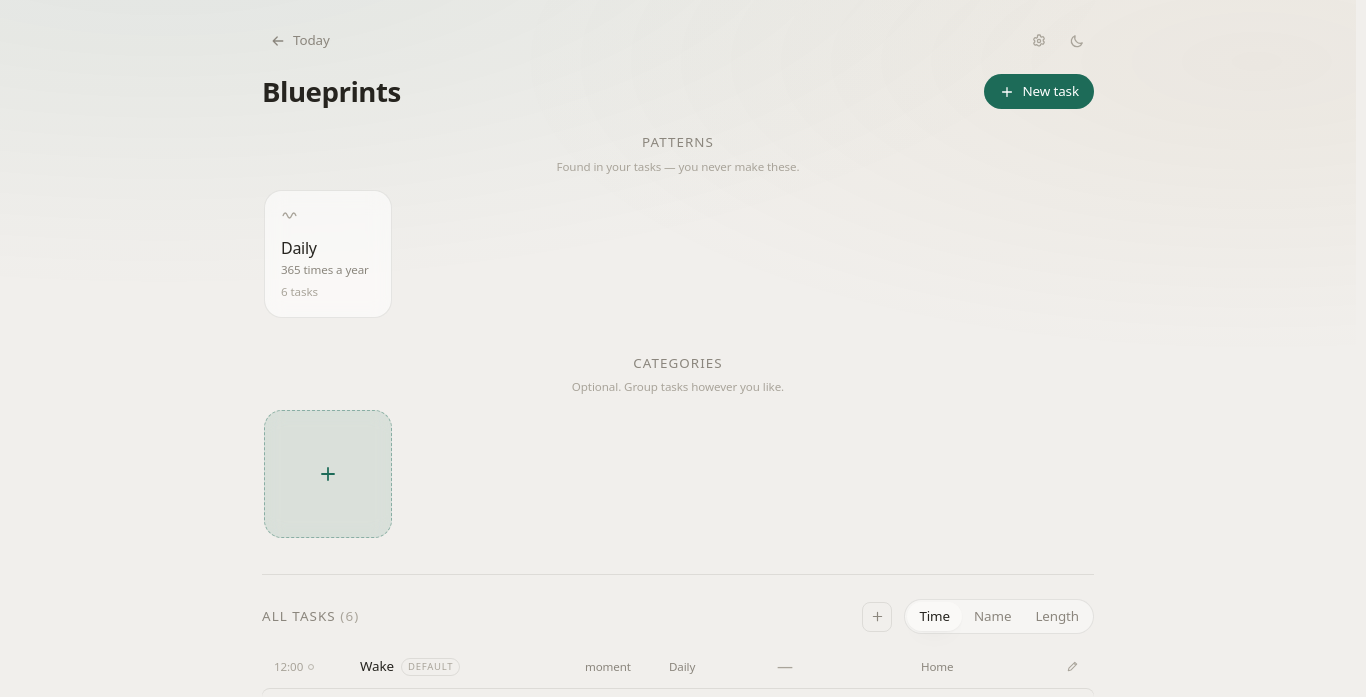
Test: blueprint wiring › opens a pattern as a popup, not a page
Click the button "Daily 365 times a year 6 tasks" at (328, 254), box [264,190,392,318]
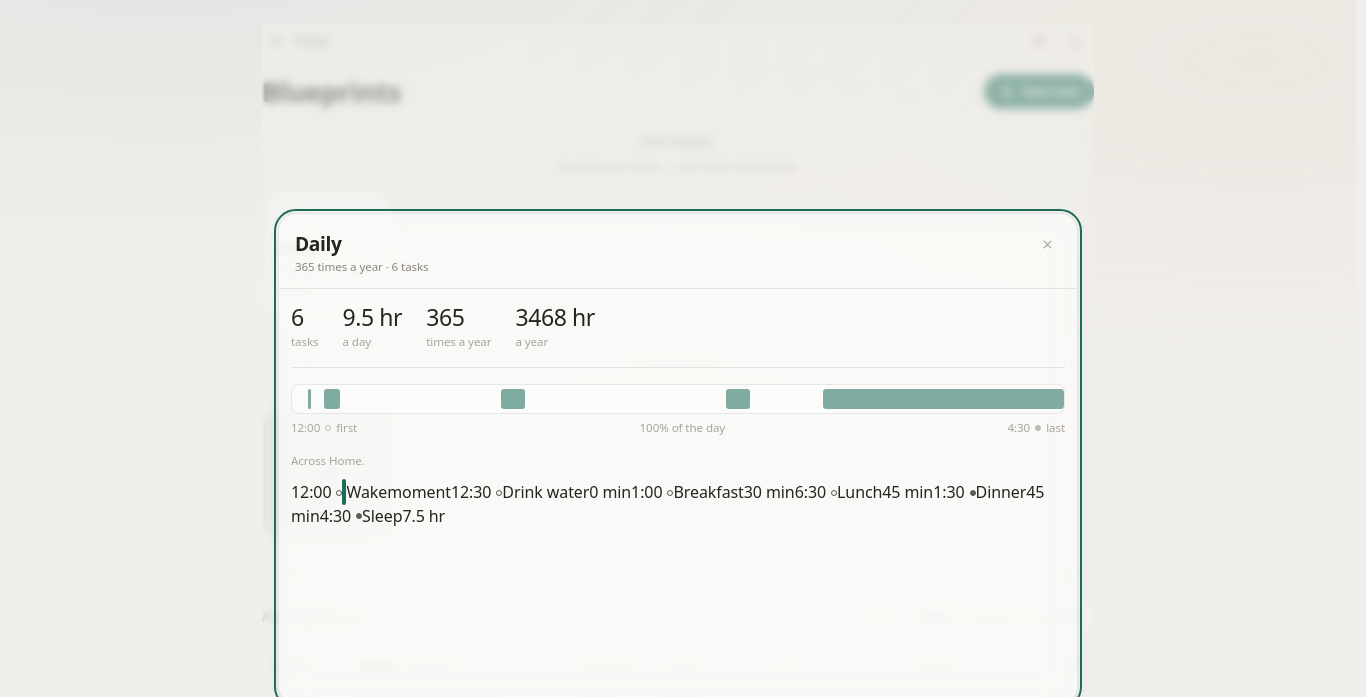
Now the dialog shows "Daily", box [295,230,342,257]
Now the text "Wake" is shown, box [346,481,387,503]
Now the text "Breakfast" is shown, box [674,481,744,503]
